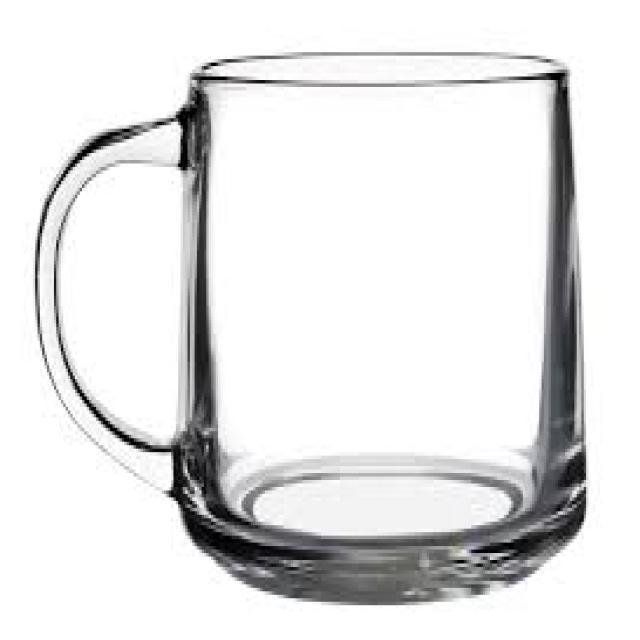Coffee Mug: (37, 55, 585, 603)
